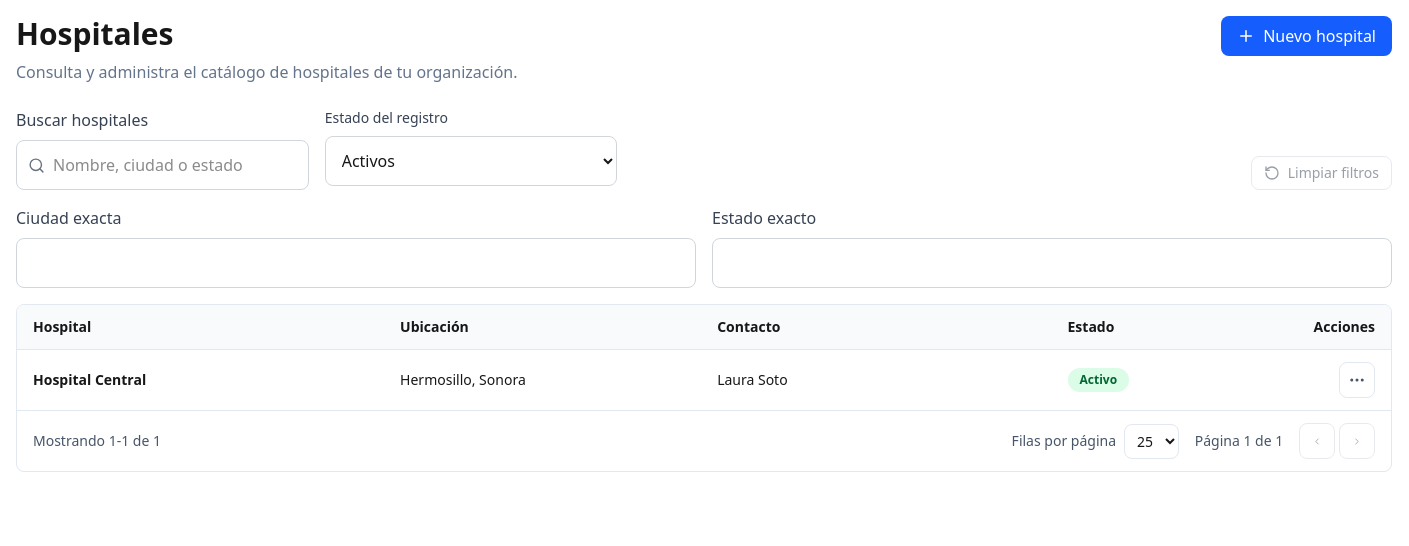
Scenario: HospitalsPage › muestra create/edit/lifecycle a ADMIN
Expected: the text "Hospital Central" is shown, [33, 370, 146, 389]
Expected: the button "Nuevo hospital" is shown, [1221, 16, 1392, 56]
Click the button named "Acciones del hospital Hospital Central" at (1357, 380), box [1339, 362, 1375, 398]
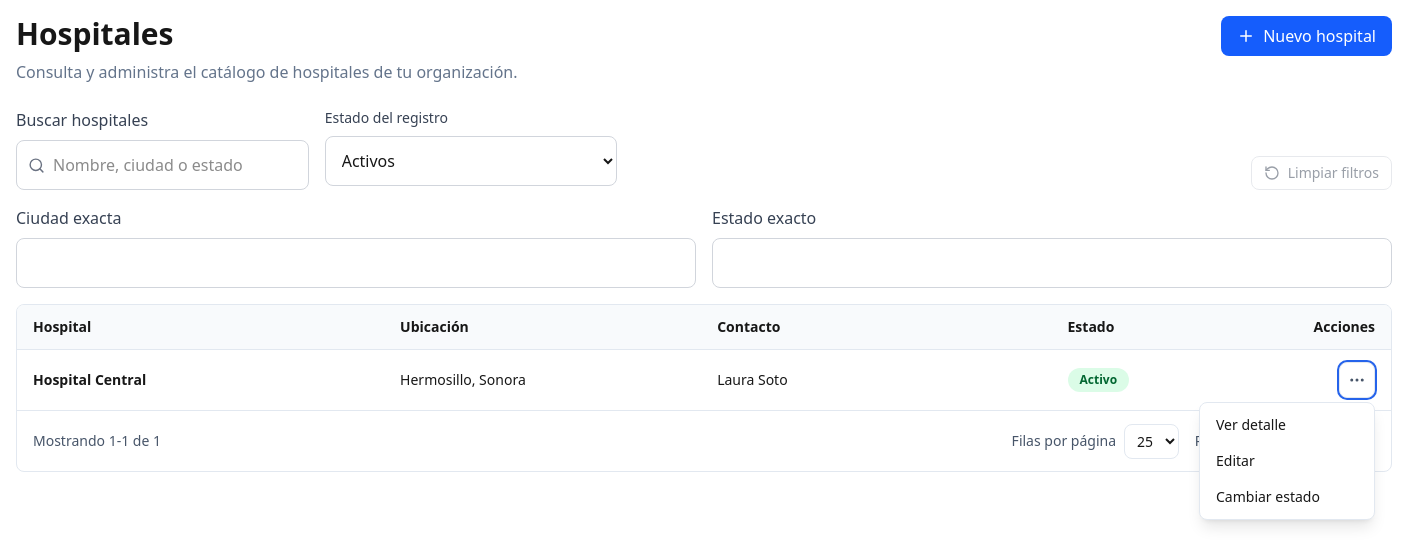
Now the menu item "Editar" is shown, box [1204, 443, 1370, 479]
Now the menu item "Cambiar estado" is shown, box [1204, 479, 1370, 515]
